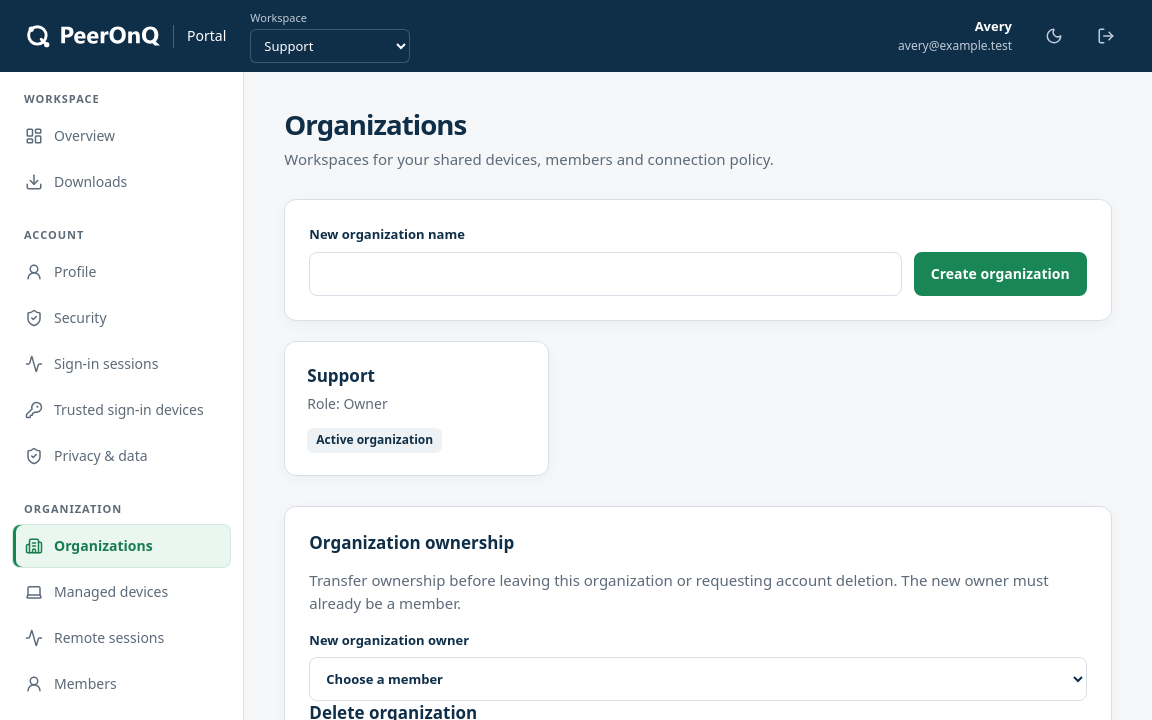
Scenario: organization lifecycle › transfers ownership only to an existing member after confirmation
This screenshot has width=1152, height=720.
Select "Morgan · morgan@example.test" in the dropdown labelled "New organization owner" at (698,679), box [309,657,1087,701]
(page scrolled)
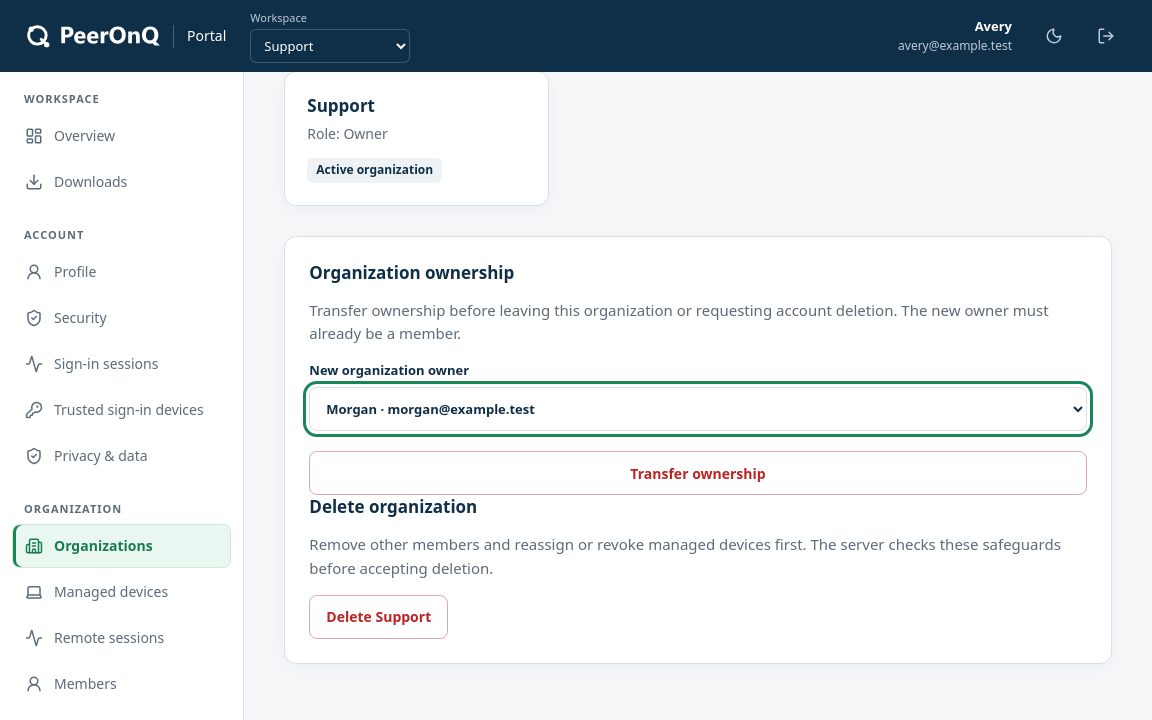
Click the button "Transfer ownership" at (698,473), box [309,451,1087,495]
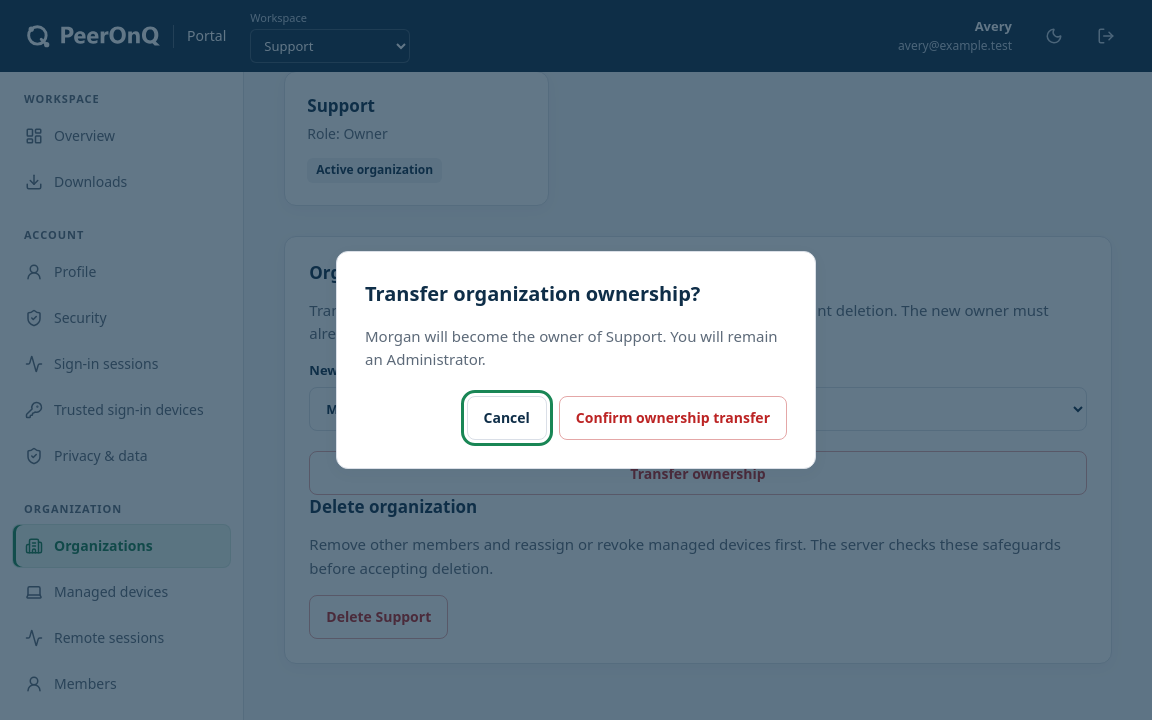
Click the button "Confirm ownership transfer" at (673,418), box [559,396,787,440]
(page scrolled)
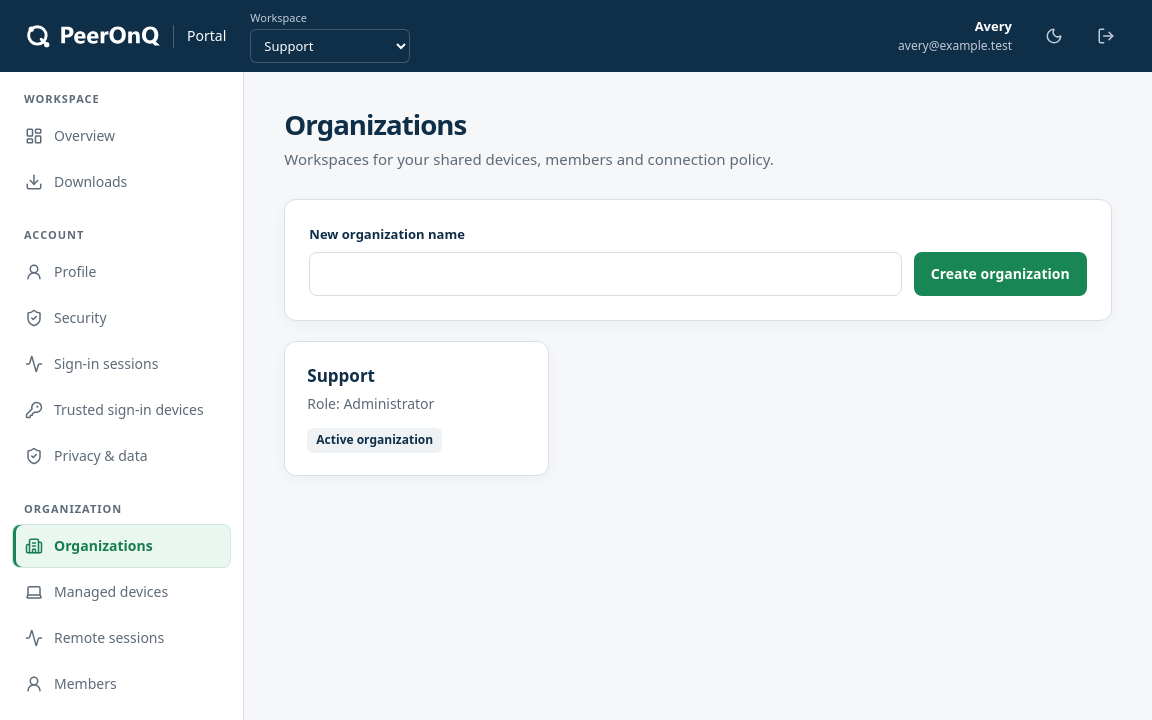
Expected: the heading "Organization ownership" is gone
